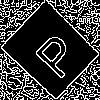P: (25, 25, 82, 81)
